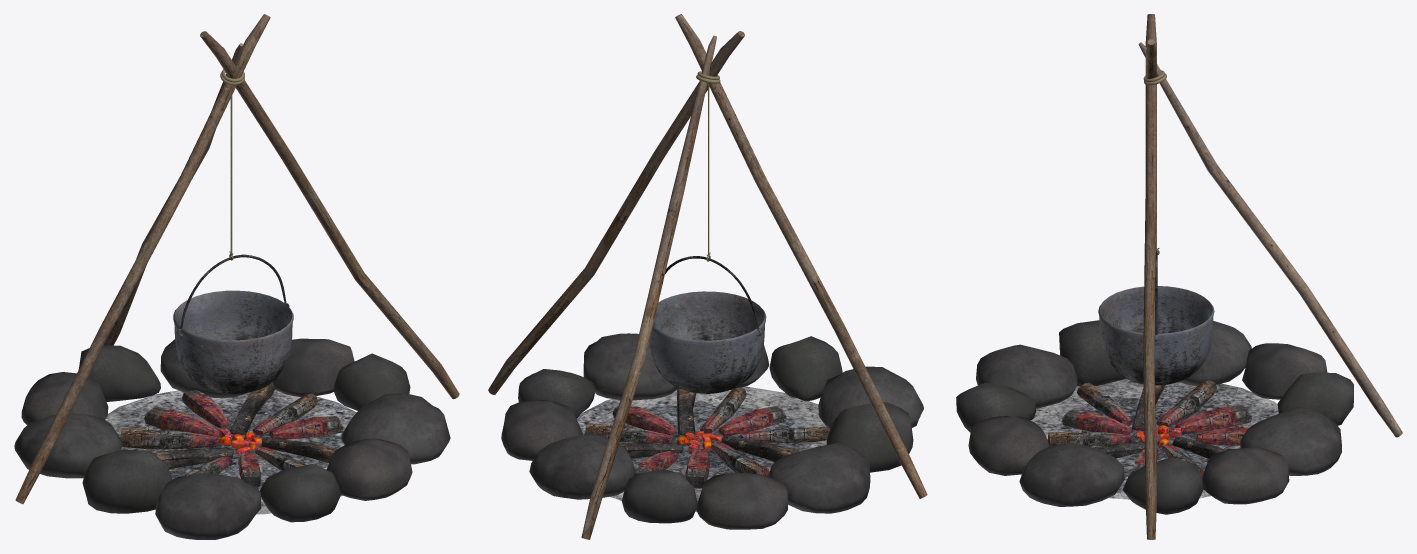
Rendered from CampFire.obj.
3 views of the same model, side by side, from view 1: azimuth 30°, elevation 25°; view 2: azimuth 150°, elevation 25°; view 3: azimuth 270°, elevation 25° (orthographic). The views are drawn at different scales.
Parts seen in each view (by area): view 1: Camp_Fire_Fire_Woods_Rocks, Camp_Fire_woods_and_ground_Fire_Woods, Camp_Fire_Fire_Woods_utensil_and_rope; view 2: Camp_Fire_Fire_Woods_Rocks, Camp_Fire_woods_and_ground_Fire_Woods, Camp_Fire_Fire_Woods_utensil_and_rope; view 3: Camp_Fire_Fire_Woods_Rocks, Camp_Fire_woods_and_ground_Fire_Woods, Camp_Fire_Fire_Woods_utensil_and_rope.
Part boxes in pixels (x1,y1,x2,y2): Camp_Fire_Fire_Woods_Rocks: (14, 338, 450, 539); Camp_Fire_woods_and_ground_Fire_Woods: (15, 14, 459, 514); Camp_Fire_Fire_Woods_utensil_and_rope: (173, 69, 293, 394); Camp_Fire_Fire_Woods_Rocks: (501, 333, 923, 529); Camp_Fire_woods_and_ground_Fire_Woods: (488, 14, 927, 539); Camp_Fire_Fire_Woods_utensil_and_rope: (649, 71, 766, 393); Camp_Fire_Fire_Woods_Rocks: (956, 320, 1353, 514); Camp_Fire_woods_and_ground_Fire_Woods: (1030, 14, 1402, 539); Camp_Fire_Fire_Woods_utensil_and_rope: (1098, 70, 1214, 385).
Size of the model in its own units: 0.776 by 0.7215 by 0.7052.
Materials: 3 (3 with a texture image).
